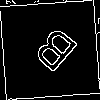B: (24, 24, 80, 81)
